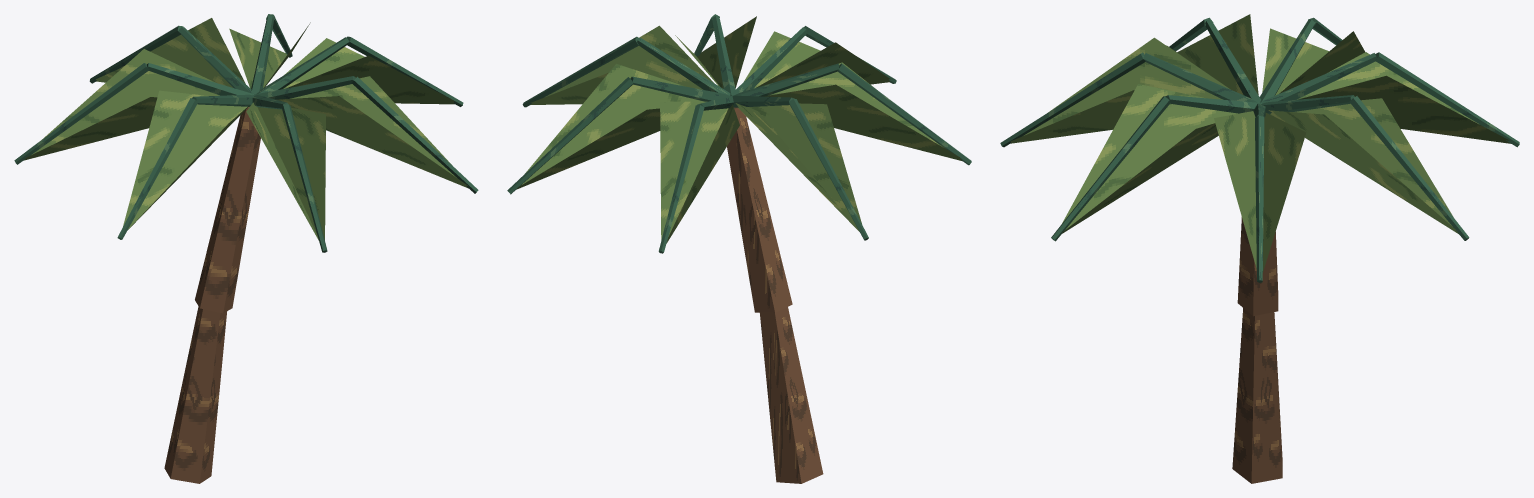
The model's file is arvore-palmeira-v02.gltf.
3 views of the same model, side by side, from view 1: azimuth 30°, elevation 25°; view 2: azimuth 150°, elevation 25°; view 3: azimuth 270°, elevation 25° (orthographic). The views are drawn at different scales.
Visible parts, largest first — view 1: tronco-galhos-copa; view 2: tronco-galhos-copa; view 3: tronco-galhos-copa.
Boxes of the visible parts, bbox=[...] form: tronco-galhos-copa: bbox=[14, 14, 478, 483]; tronco-galhos-copa: bbox=[507, 14, 971, 483]; tronco-galhos-copa: bbox=[1000, 14, 1519, 483].
Size of the model in its own units: 3.83 by 3.71 by 3.93.
Materials: 1 (1 with a texture image).
